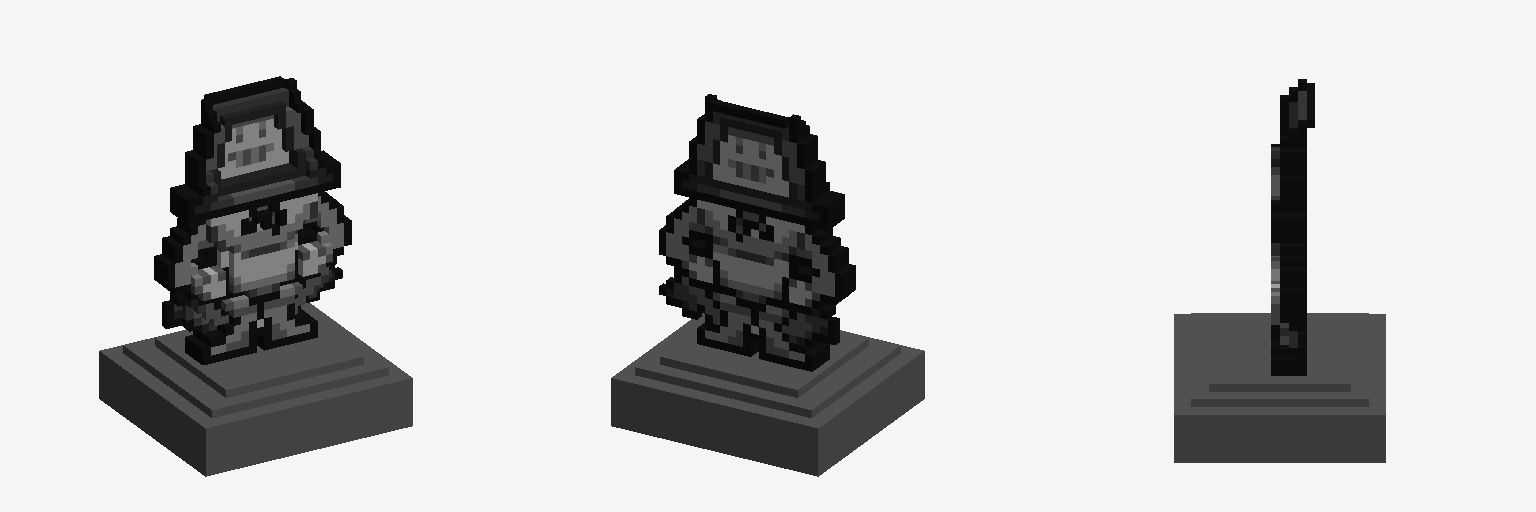
The picture shows the model from 3 angles: view 1: azimuth 30°, elevation 25°; view 2: azimuth 150°, elevation 25°; view 3: azimuth 270°, elevation 25°; orthographic projection.
Visible parts, largest first — view 1: object 1; view 2: object 1; view 3: object 1.
Boxes of the visible parts, <box> form: object 1: <box>99,76,412,476</box>; object 1: <box>611,94,924,476</box>; object 1: <box>1174,79,1385,462</box>.
Size of the model in its own units: 2.7 by 3.9 by 2.4.
1 materials, 1 textured.